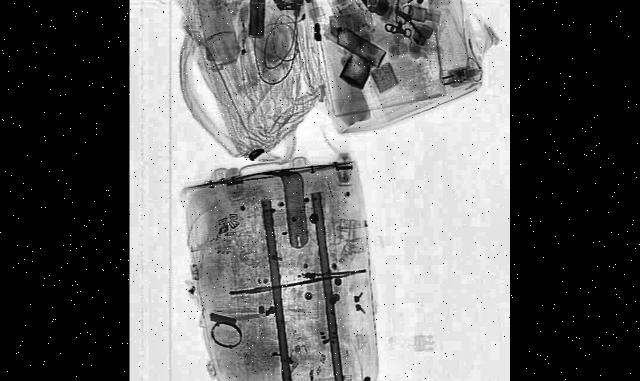Scissors: (395, 0, 425, 47)
